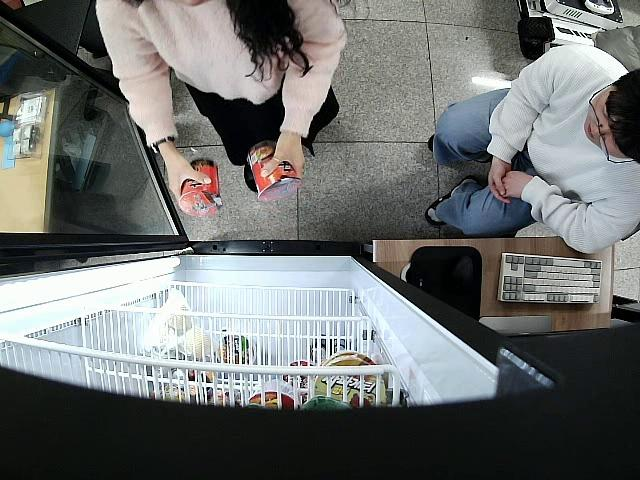00_hand: (167, 163, 212, 203), (261, 143, 306, 181)
02_shinRamen_S: (248, 144, 297, 203), (180, 156, 223, 218)
